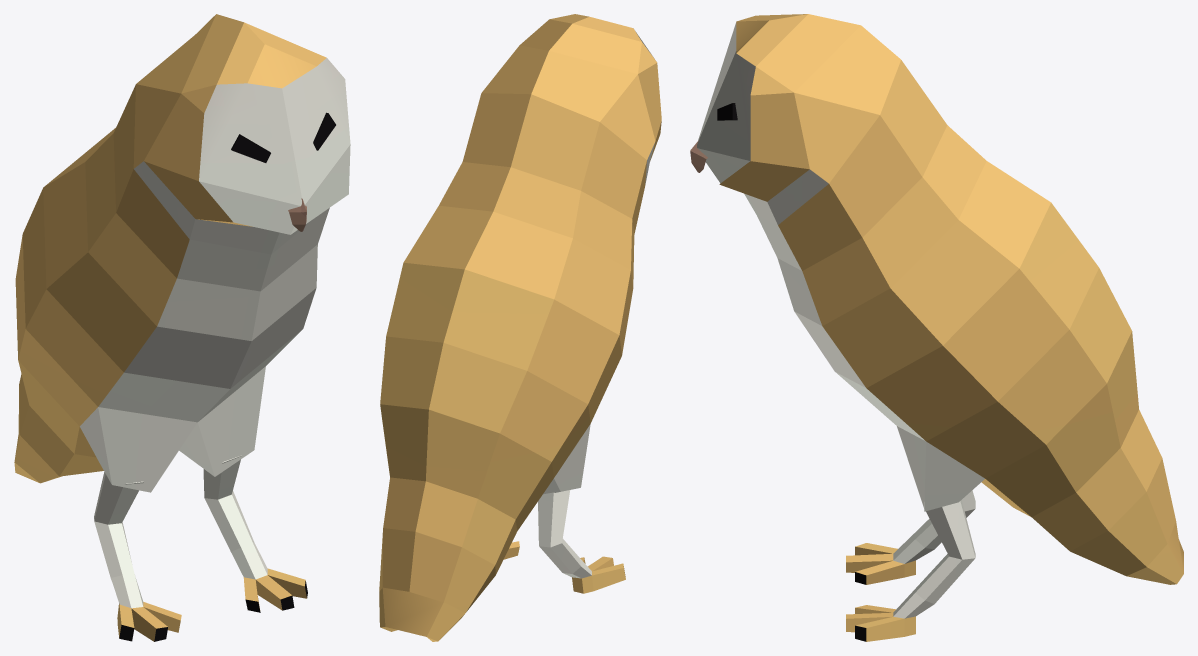
File: animals-barn-owl-006.glb
3 renders of one model, left to right at view 1: azimuth 30°, elevation 25°; view 2: azimuth 150°, elevation 25°; view 3: azimuth 270°, elevation 25°, orthographic. The views are drawn at different scales.
Parts seen in each view (by area): view 1: Geo_Owl; view 2: Geo_Owl; view 3: Geo_Owl.
Boxes of the visible parts, bbox=[...] form: Geo_Owl: bbox=[14, 14, 350, 641]; Geo_Owl: bbox=[379, 14, 661, 641]; Geo_Owl: bbox=[690, 14, 1183, 641].
Bounding box in the file's own units: 41.84 × 97.62 × 74.31.
Materials: 1 (1 with a texture image).
